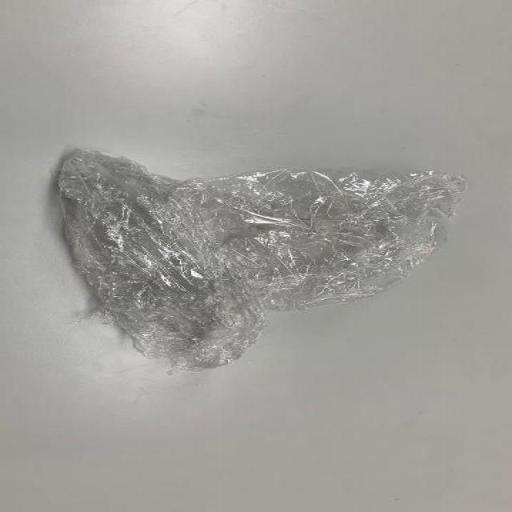plastic-bag: (46, 141, 473, 378)
